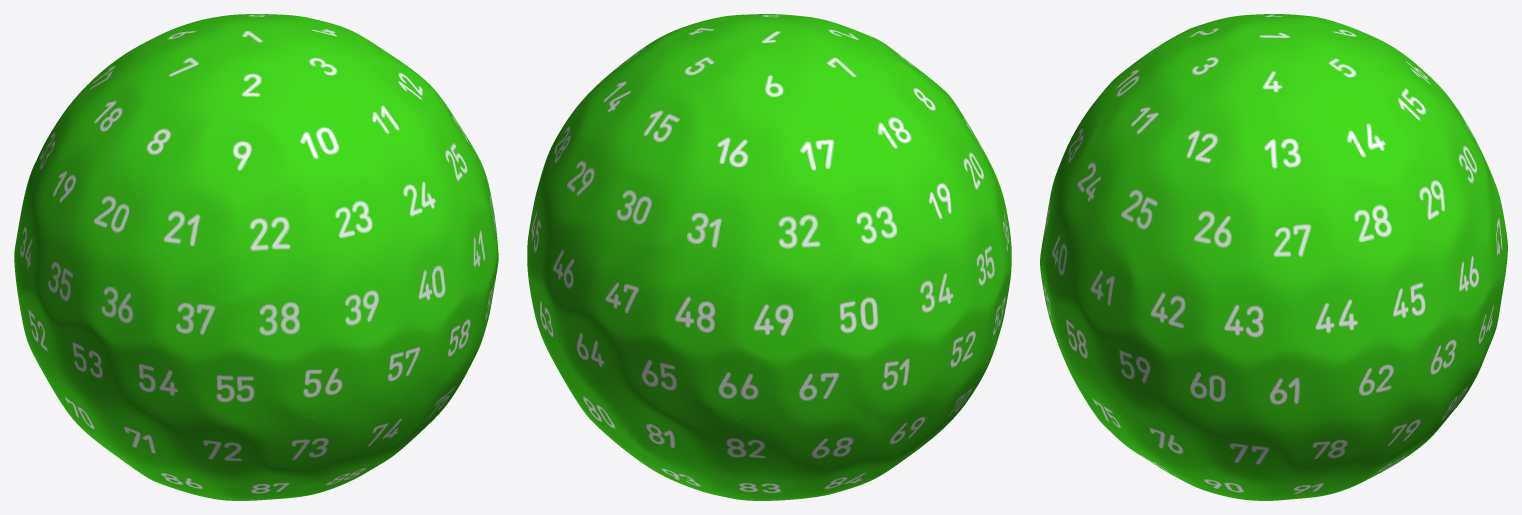
Rendered from dice.glb.
The picture shows the model from 3 angles, left to right: view 1: azimuth 30°, elevation 25°; view 2: azimuth 150°, elevation 25°; view 3: azimuth 270°, elevation 25°; orthographic projection.
Parts seen in each view (by area): view 1: sides1_pCylinder48.009; view 2: sides1_pCylinder48.009; view 3: sides1_pCylinder48.009.
Part boxes in pixels (x1,y1,x2,y2): sides1_pCylinder48.009: (14, 14, 498, 500); sides1_pCylinder48.009: (527, 14, 1011, 500); sides1_pCylinder48.009: (1040, 14, 1507, 500).
Bounding box in the file's own units: 3.65 × 3.63 × 3.51.
1 material, 1 textured.
